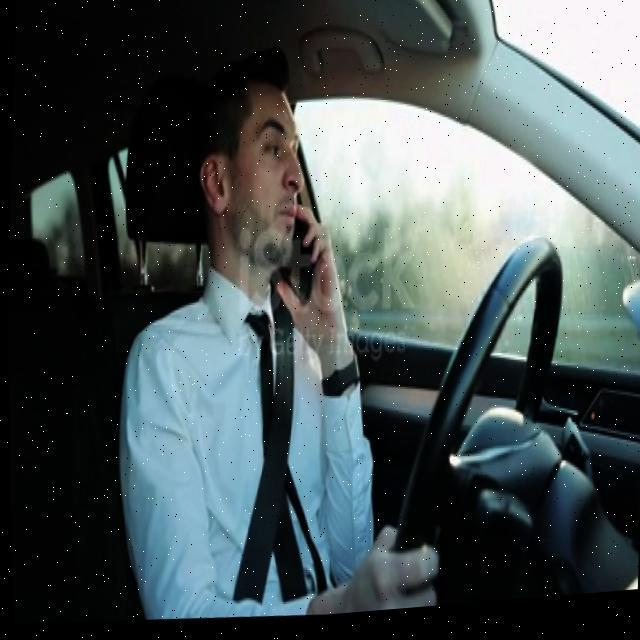PhoneCall: (276, 210, 318, 320)
